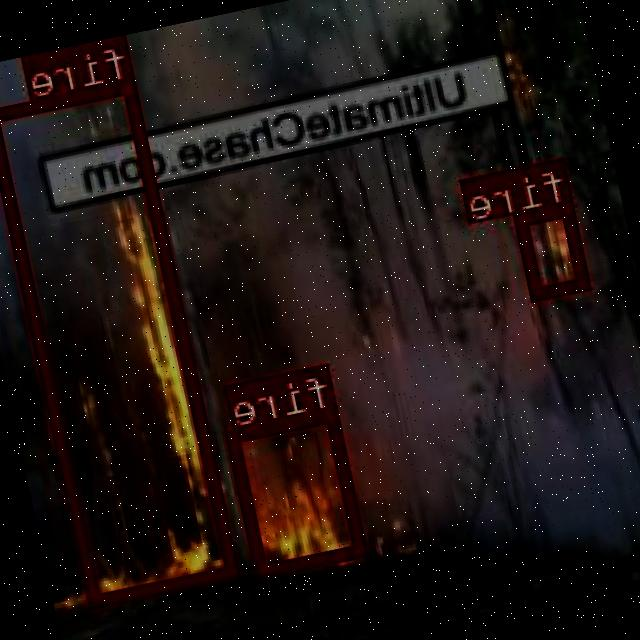fire: (0, 77, 241, 605), (228, 407, 369, 576), (516, 199, 590, 298)
